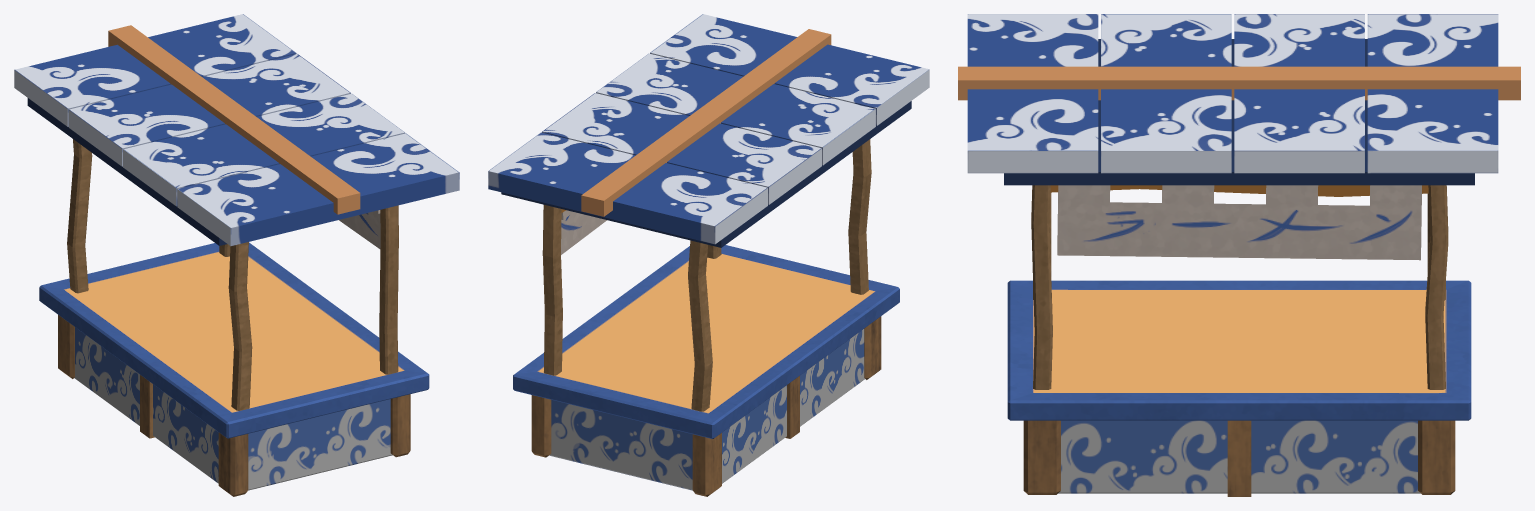
The model's file is Booth 2-1.fbx.
3 renders of one model, left to right at view 1: azimuth 30°, elevation 25°; view 2: azimuth 150°, elevation 25°; view 3: azimuth 270°, elevation 25°, orthographic. The views are drawn at different scales.
Visible parts, largest first — view 1: Cube, Cube.011, Cube.009, Cube.013, Cube.007, Cube.010, Plane, Cube.008; view 2: Cube, Cube.011, Cube.009, Cube.013, Cube.007, Cube.010, Plane, Cube.008; view 3: Cube, Cube.011, Plane, Cube.013, Cube.009, Cube.010, Cube.007, Cube.008, Cube.012.
Part boxes in pixels (box(x1,y1,x2,y2)): Cube: box(39, 242, 429, 490); Cube.011: box(14, 14, 459, 246); Cube.009: box(67, 139, 398, 410); Cube.013: box(108, 25, 360, 214); Cube.007: box(58, 315, 410, 496); Cube.010: box(27, 98, 226, 245); Plane: box(339, 210, 380, 248); Cube.008: box(140, 375, 154, 438); Cube: box(513, 245, 899, 490); Cube.011: box(488, 14, 929, 244); Cube.009: box(542, 139, 871, 411); Cube.013: box(581, 29, 831, 216); Cube.007: box(531, 316, 881, 496); Cube.010: box(501, 101, 911, 247); Plane: box(561, 210, 606, 254); Cube.008: box(785, 376, 799, 438); Cube: box(1007, 280, 1471, 493); Cube.011: box(967, 14, 1498, 173); Plane: box(1057, 185, 1421, 260); Cube.013: box(958, 66, 1520, 100); Cube.009: box(1031, 185, 1448, 389); Cube.010: box(1004, 39, 1474, 185); Cube.007: box(1023, 420, 1455, 494); Cube.008: box(1227, 420, 1251, 496); Cube.012: box(1050, 185, 1428, 196).
Bounding box in the file's own units: 946 × 1190 × 1641.
Materials: 1 (1 with a texture image).
